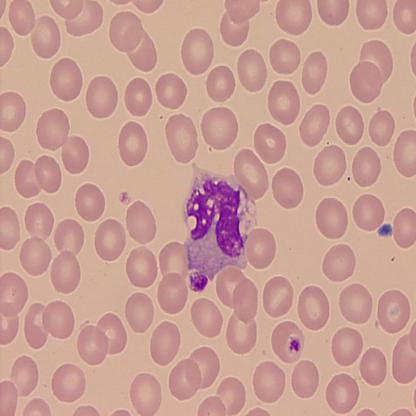Monocyte: (179, 159, 258, 284)
